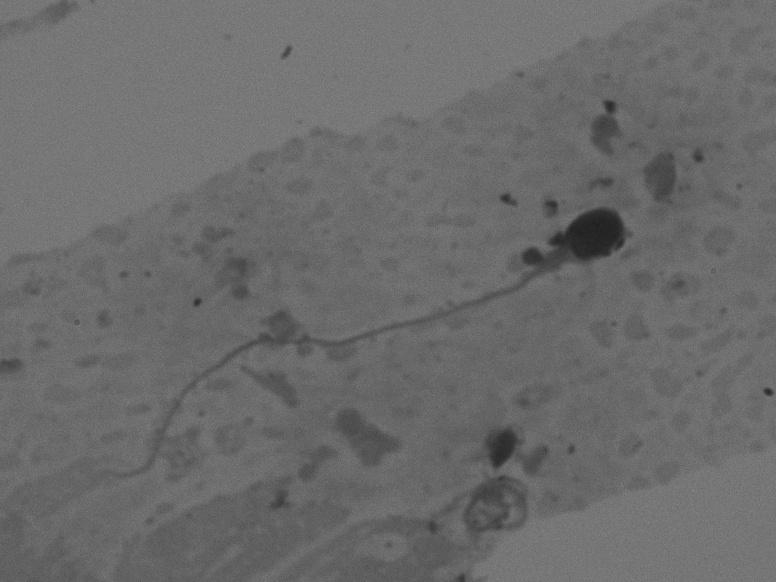Abnormal: (103, 182, 644, 498)
